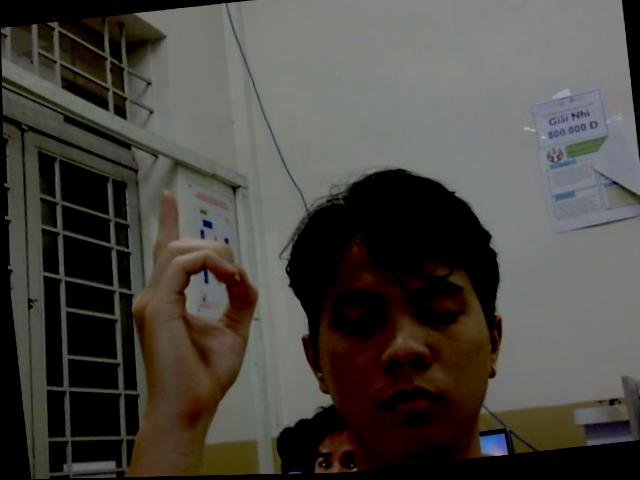D: (117, 180, 269, 418)
